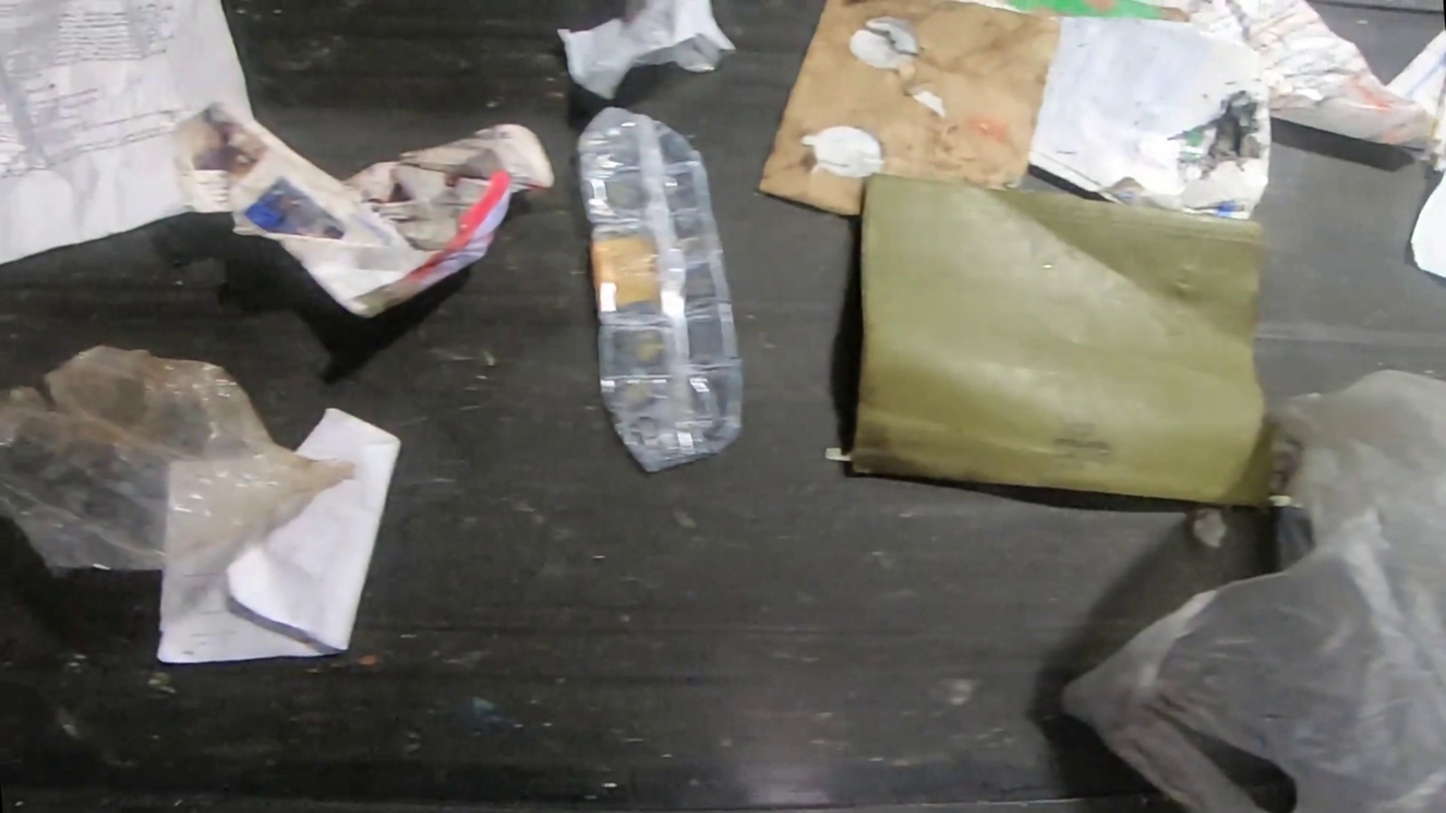cardboard: (845, 172, 1275, 509), (755, 0, 1062, 218)
plastic: (1051, 364, 1446, 812), (0, 348, 357, 571), (575, 108, 750, 473)
